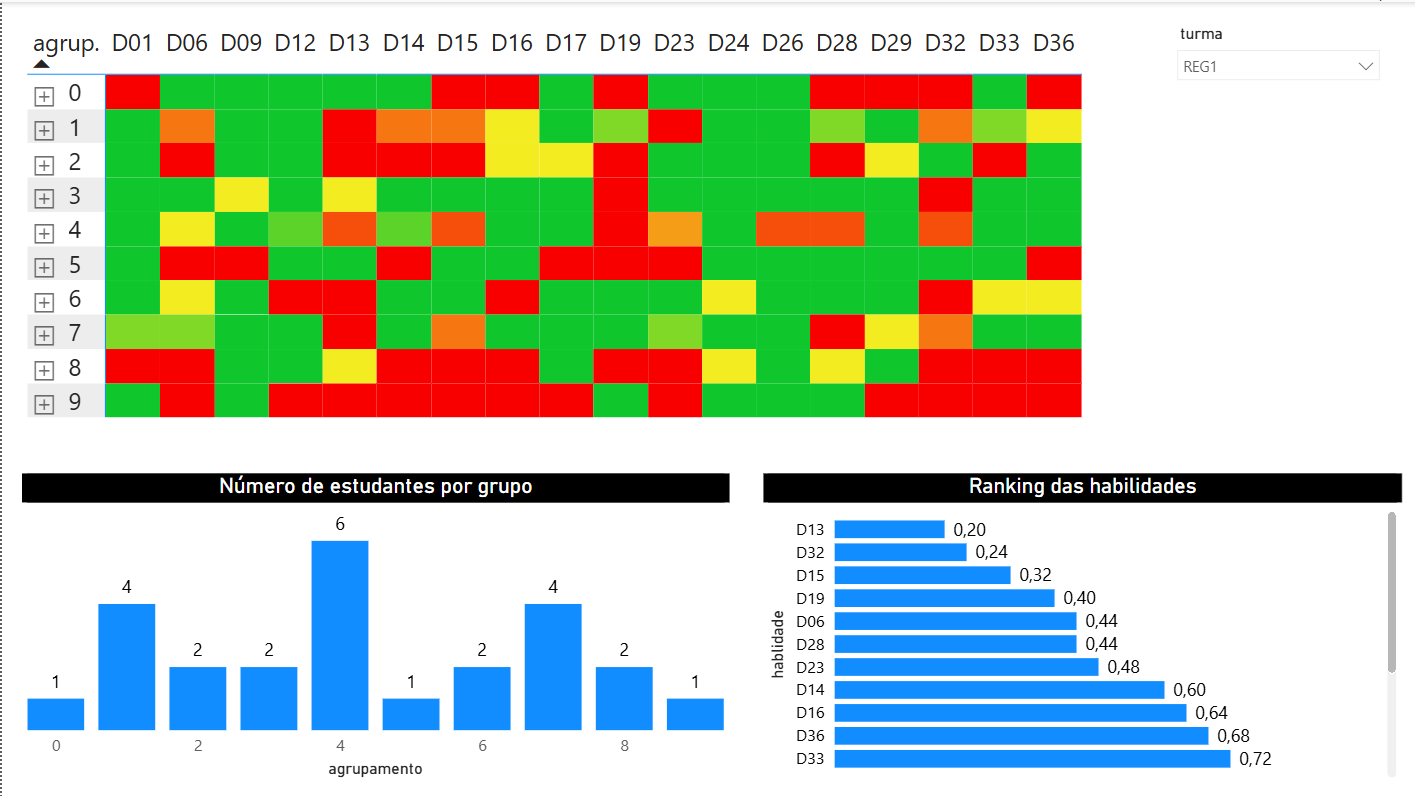

Layout of this report page (visuals, bound fields, positions):
{"tool":"powerbi","page":{"name":"Matemática","canvas":[1280,720],"ordinal":1},"visuals":[{"type":"pivotTable","fields":{"Columns":["mat.habilidade"],"Rows":["mat.agrupamento","mat.Student Name"],"Values":["Avg(mat.Valor)"]},"box":[34.6,29,1035.1,397.5],"z":0},{"type":"slicer","fields":{"Values":["mat.turma"]},"box":[1045.4,29.1,203.5,72.1],"z":1000},{"type":"columnChart","title":"Número de estudantes por grupo","fields":{"Category":["mat.agrupamento"],"Y":["Count(mat.Student Name)"]},"box":[34.6,418.7,626.4,270.2],"z":2000},{"type":"clusteredBarChart","title":"Ranking das habilidades","fields":{"Category":["mat.habilidade"],"Y":["Avg(mat.Valor)"]},"box":[683.4,418.7,565,270.2],"z":3000}]}

Visuals, with their boxes in screenshot pixels (x1, y1, x2, y2), scaled from the page's 1280x720 canvas onto the 1415x797 screenshot:
pivotTable - mat.habilidade x mat.agrupamento: bbox=[38, 32, 1183, 472]
slicer - mat.turma: bbox=[1156, 32, 1381, 112]
"Número de estudantes por grupo" columnChart: bbox=[38, 463, 731, 763]
"Ranking das habilidades" clusteredBarChart: bbox=[755, 463, 1380, 763]
